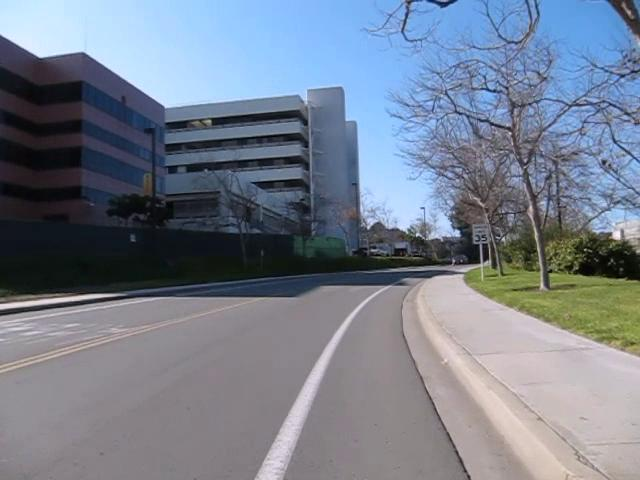speedLimit35: (471, 221, 490, 245)
